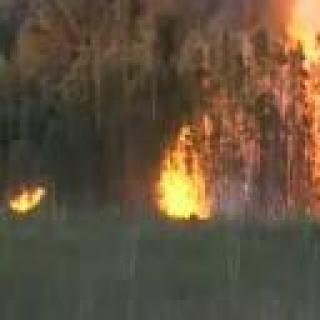fire: (150, 118, 220, 206), (291, 18, 320, 212), (8, 178, 47, 216)
